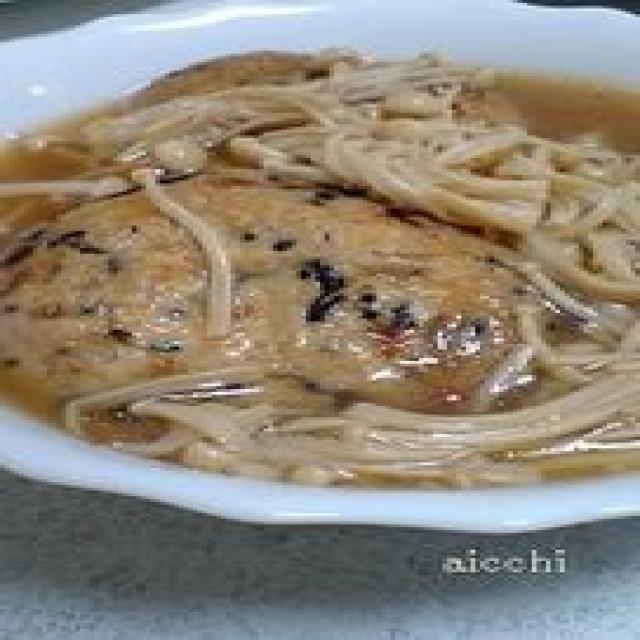熟制海鲜: (0, 119, 640, 496)
